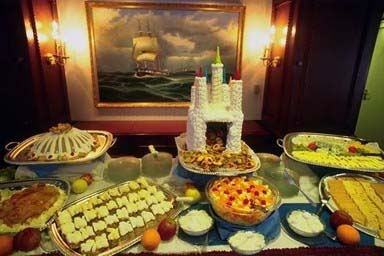copymove: (223, 229, 266, 256)
removal: (300, 175, 323, 202)
